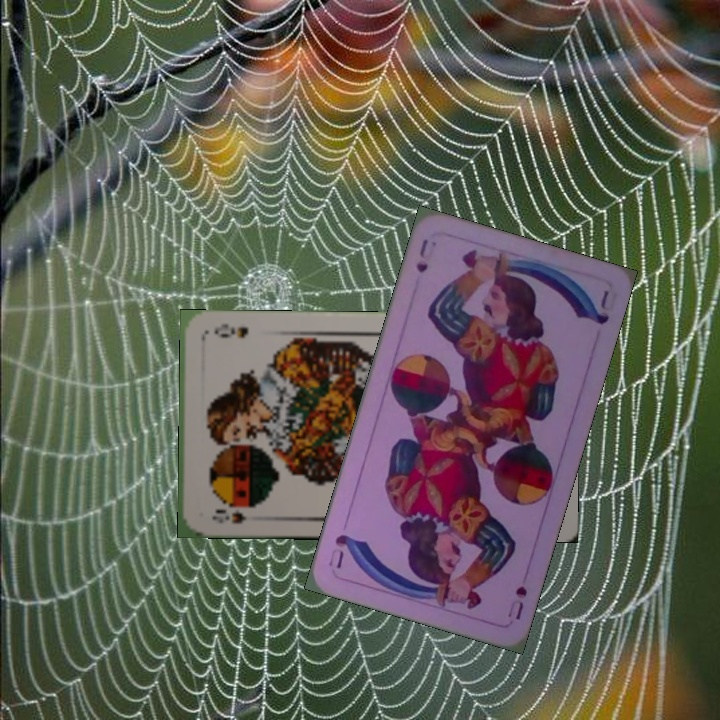SO: (208, 503, 259, 526)
SU: (503, 581, 530, 623), (412, 235, 433, 276)
